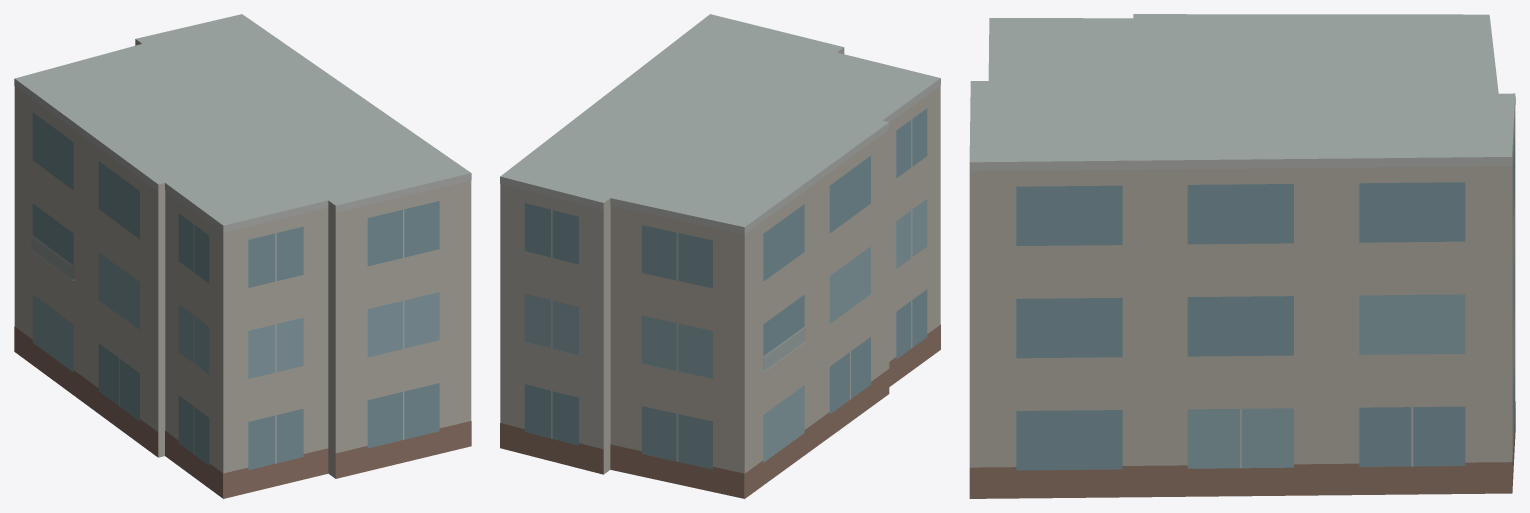
Rendered from survey-upis-32678172.glb.
The picture shows the model from 3 angles, left to right: view 1: azimuth 30°, elevation 25°; view 2: azimuth 150°, elevation 25°; view 3: azimuth 270°, elevation 25°; orthographic projection. The views are drawn at different scales.
Parts seen in each view (by area): view 1: survey-upis-32678172.tmp; view 2: survey-upis-32678172.tmp; view 3: survey-upis-32678172.tmp.
Part boxes in pixels (bbox=[...]): survey-upis-32678172.tmp: bbox=[14, 14, 471, 498]; survey-upis-32678172.tmp: bbox=[500, 14, 940, 498]; survey-upis-32678172.tmp: bbox=[969, 14, 1515, 498].
Size of the model in its own units: 8.67 by 9.15 by 13.46.
